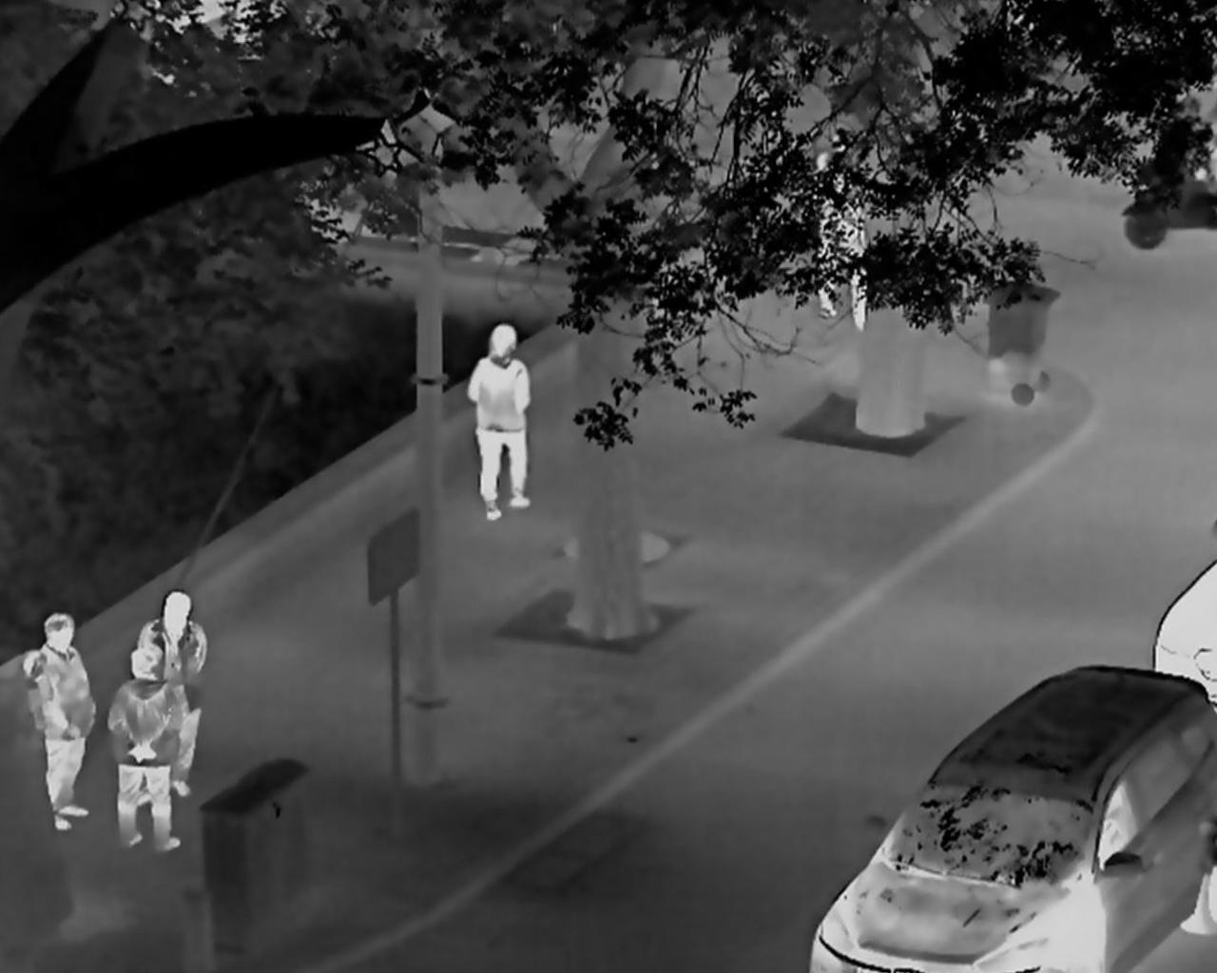person: (106, 648, 184, 854), (134, 588, 209, 799), (467, 322, 534, 521), (36, 610, 96, 832), (811, 148, 841, 319), (841, 181, 866, 333), (19, 649, 48, 731)
